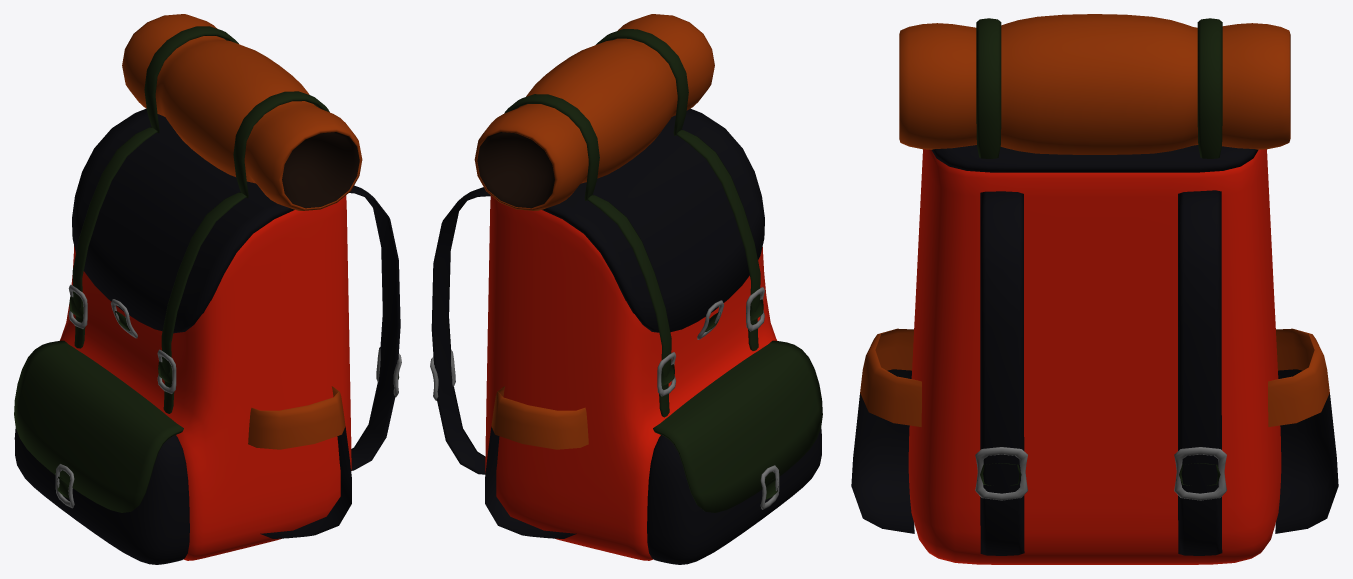
File: backpack.obj
The picture shows the model from 3 angles, left to right: view 1: azimuth 30°, elevation 25°; view 2: azimuth 150°, elevation 25°; view 3: azimuth 270°, elevation 25°; orthographic projection. The views are drawn at different scales.
Parts seen in each view (by area): view 1: bag, sleepingbag, Plane.004; view 2: bag, sleepingbag, Plane.004; view 3: bag, sleepingbag, Plane.004.
Part boxes in pixels (x1,y1,x2,y2): bag: [14, 26, 400, 564]; sleepingbag: [122, 14, 362, 210]; Plane.004: [55, 284, 401, 508]; bag: [431, 29, 822, 564]; sleepingbag: [474, 14, 714, 210]; Plane.004: [430, 287, 779, 509]; bag: [851, 18, 1338, 564]; sleepingbag: [899, 14, 1290, 154]; Plane.004: [975, 447, 1226, 500].
Size of the model in its own units: 3.57 by 4.99 by 4.13.
